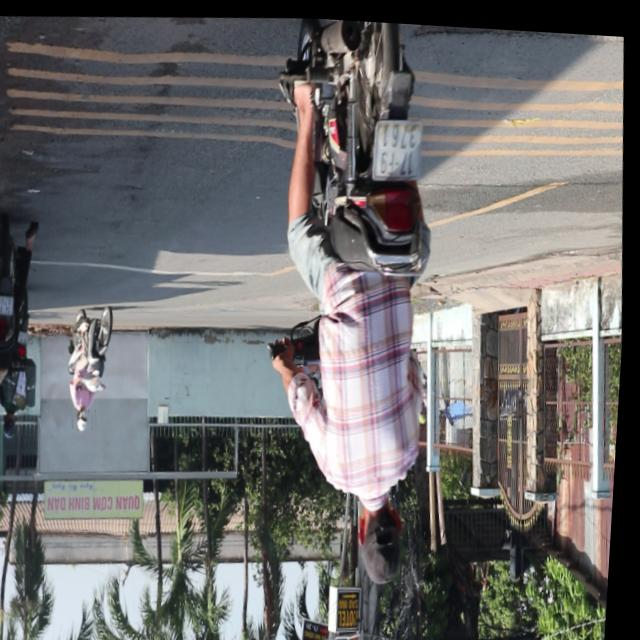licenseplate: (247, 13, 468, 590), (0, 219, 36, 483)
motorcyclist: (362, 489, 417, 583)
nohelmet: (374, 118, 426, 178), (0, 295, 18, 317)
